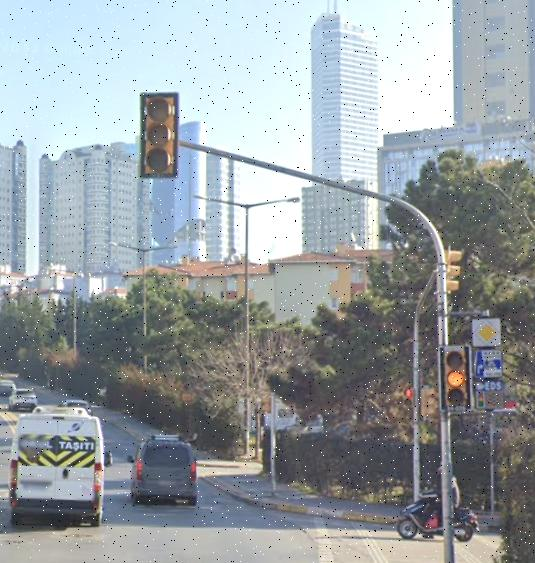yellowlight: (437, 345, 470, 412)
